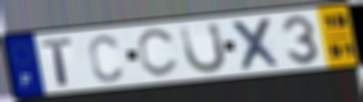3: (279, 14, 322, 66)
C: (135, 27, 180, 79), (87, 33, 125, 84)
T: (39, 36, 76, 88)
U: (178, 21, 228, 76)
X: (228, 16, 284, 72)
